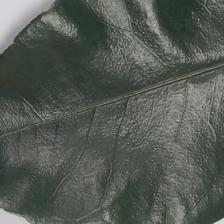healthy: (3, 3, 224, 218)
